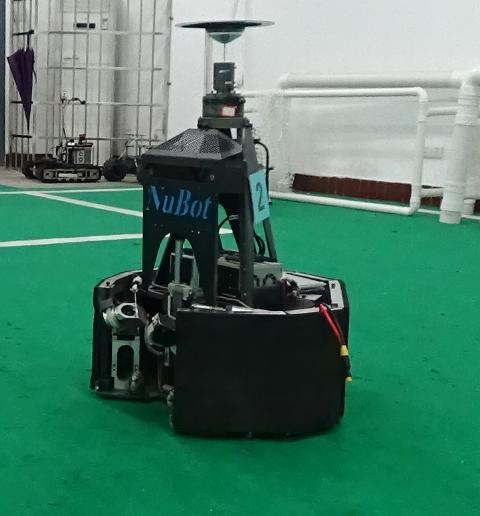robot: (81, 56, 356, 444)
